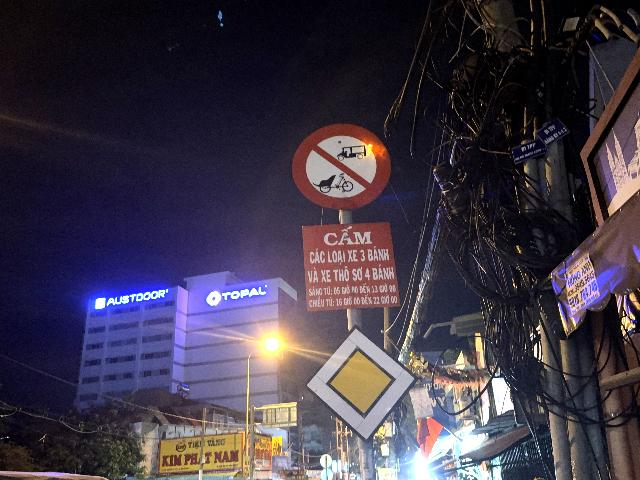bat-dau-duong-uu-tien: (304, 324, 419, 444)
cam-xe-3-banh-xe-tho-so-4-banh: (292, 122, 391, 210)
